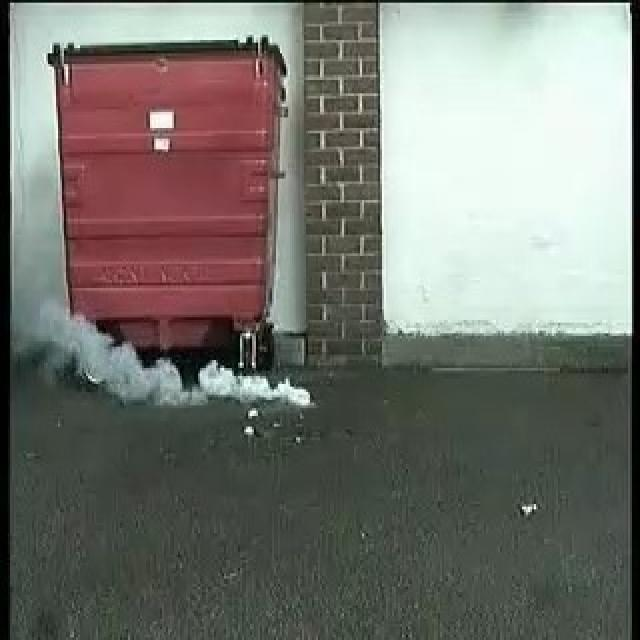smoke: (68, 316, 312, 408)
